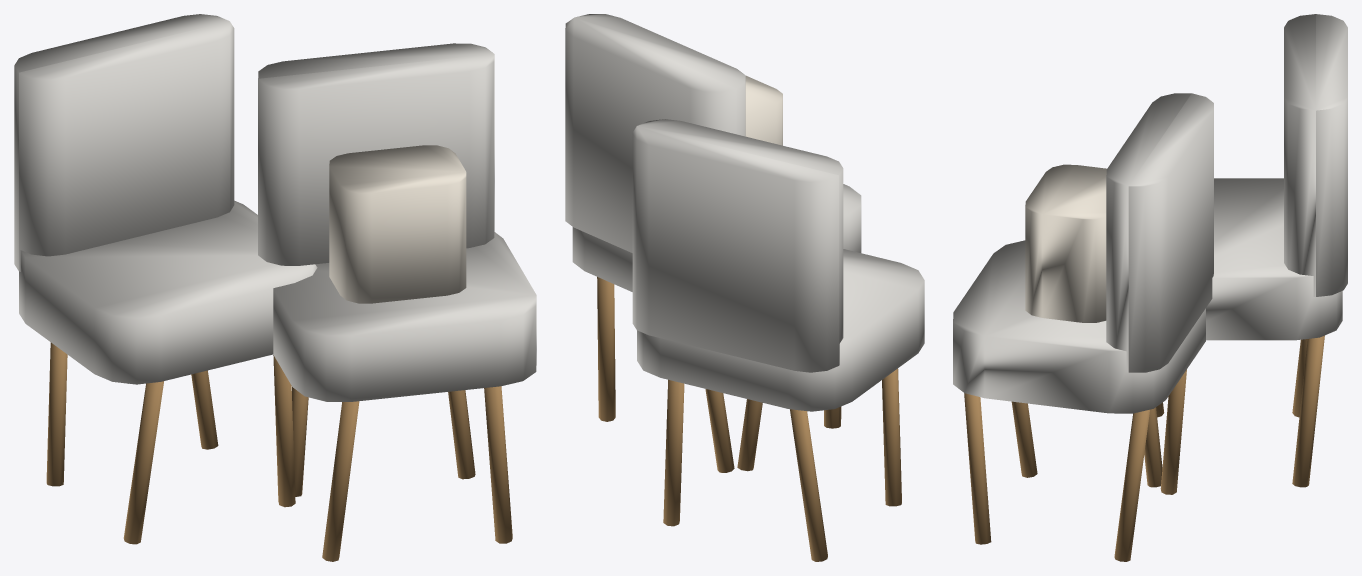
The model's file is garage_chair.glb.
3 views of the same model, side by side, from view 1: azimuth 30°, elevation 25°; view 2: azimuth 150°, elevation 25°; view 3: azimuth 270°, elevation 25° (orthographic). The views are drawn at different scales.
Parts seen in each view (by area): view 1: root; view 2: root; view 3: root.
Boxes of the visible parts, x1,y1,x2,y2 form: root: [14, 14, 536, 561]; root: [565, 14, 924, 561]; root: [953, 14, 1347, 561].
Size of the model in its own units: 0.8229 by 0.8557 by 0.7897.
